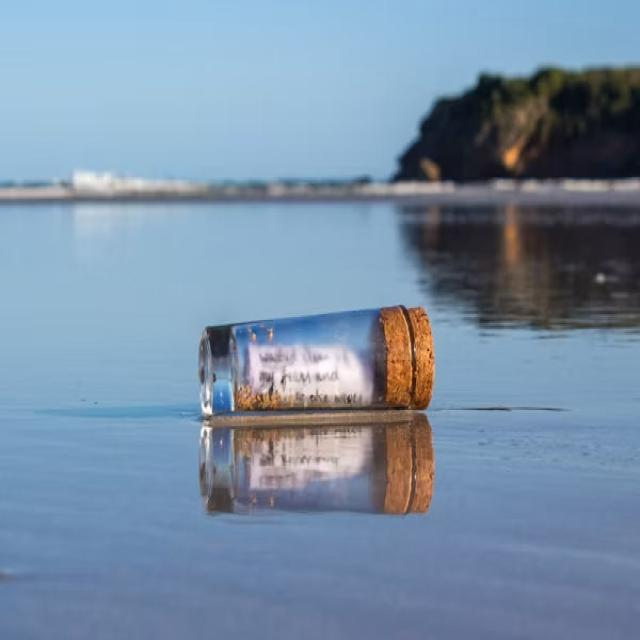Bottle: (199, 307, 434, 415), (199, 412, 434, 514)
